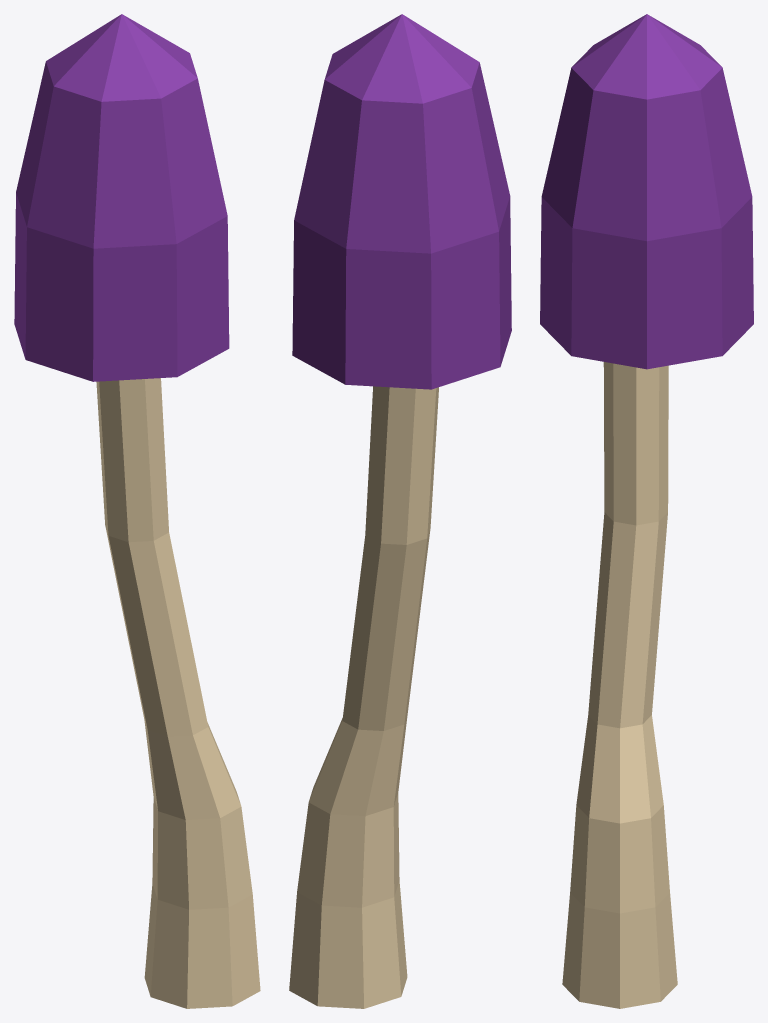
File: Champignon_C.FBX
3 views of the same model, side by side, from view 1: azimuth 30°, elevation 25°; view 2: azimuth 150°, elevation 25°; view 3: azimuth 270°, elevation 25° (orthographic). The views are drawn at different scales.
Visible parts, largest first — view 1: Champignon_C; view 2: Champignon_C; view 3: Champignon_C.
Part boxes in pixels (bbox=[...]): Champignon_C: bbox=[14, 14, 260, 1008]; Champignon_C: bbox=[289, 14, 511, 1008]; Champignon_C: bbox=[540, 14, 753, 1008].
Size of the model in its own units: 1.64 by 7.11 by 1.47.
Materials: 1 (1 with a texture image).
